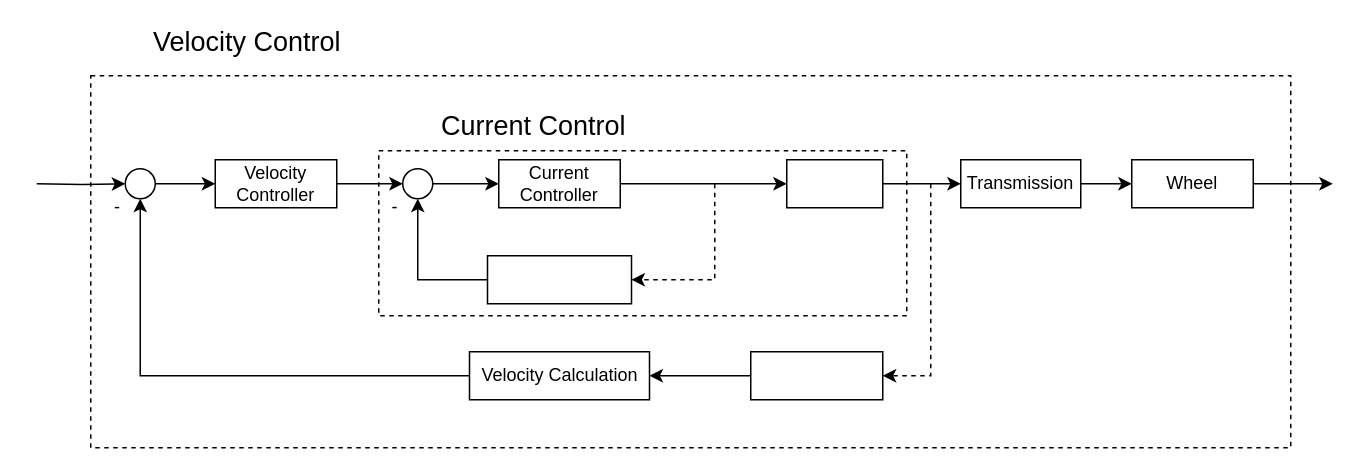
This 1371x474 diagram has some shape labels left out. Here are the shapes that lost their labels. From the top down, the centre of each, then its label:
At pixel 834 183: "Motor".
At pixel 559 279: "Current Sensing".
At pixel 816 375: "Motor Encoder".
